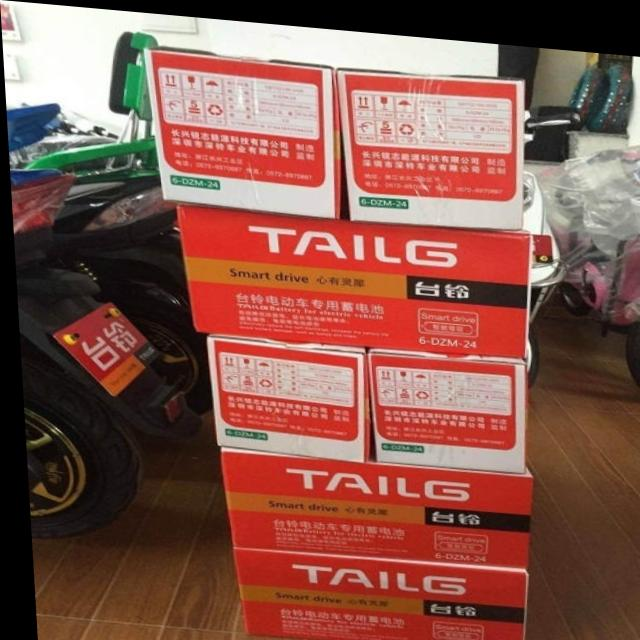box: (178, 199, 527, 349), (213, 443, 525, 562), (151, 42, 343, 215), (332, 60, 525, 219), (225, 543, 524, 640), (206, 331, 366, 456), (365, 343, 525, 462)
